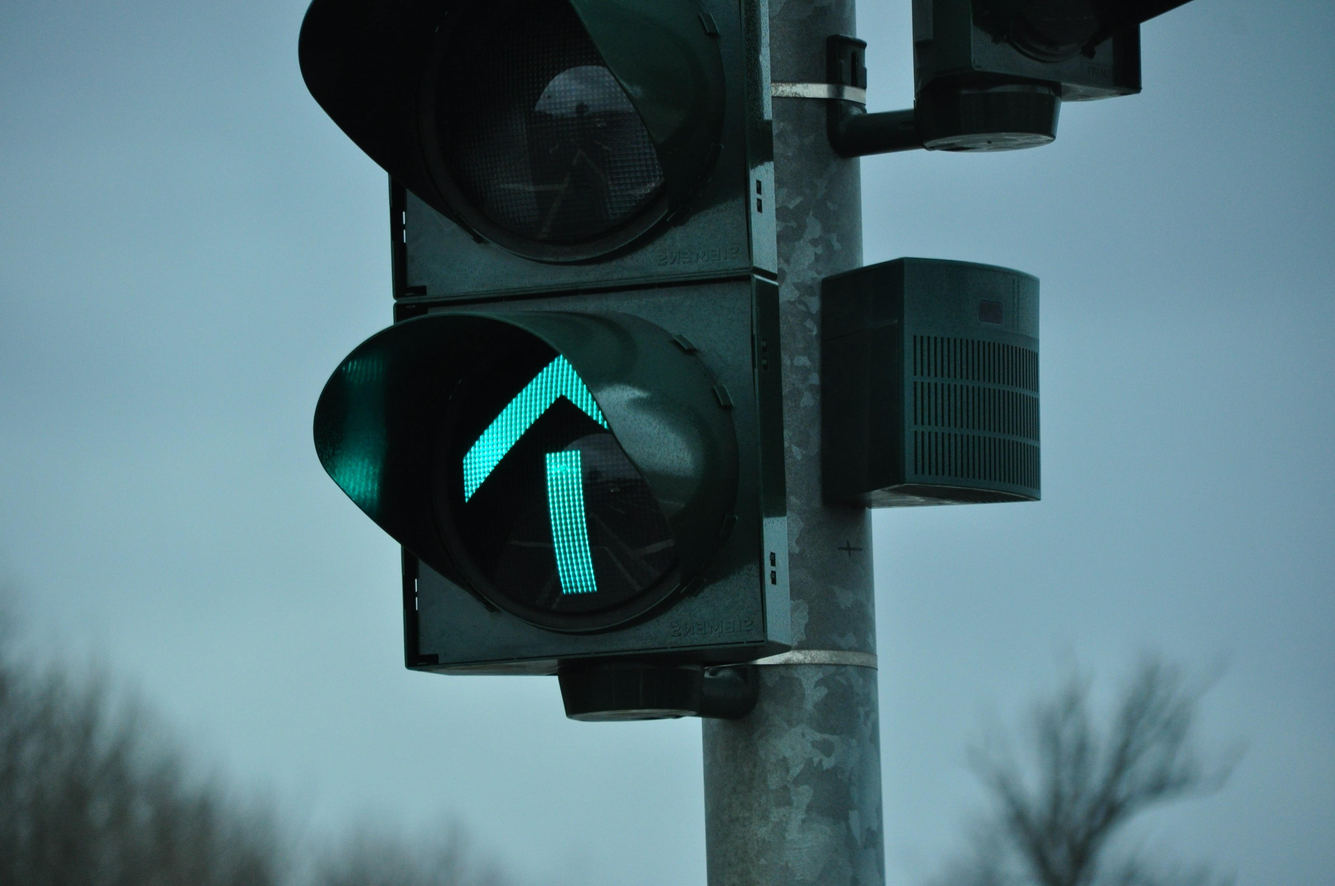Traffic light green: (290, 0, 803, 694)
